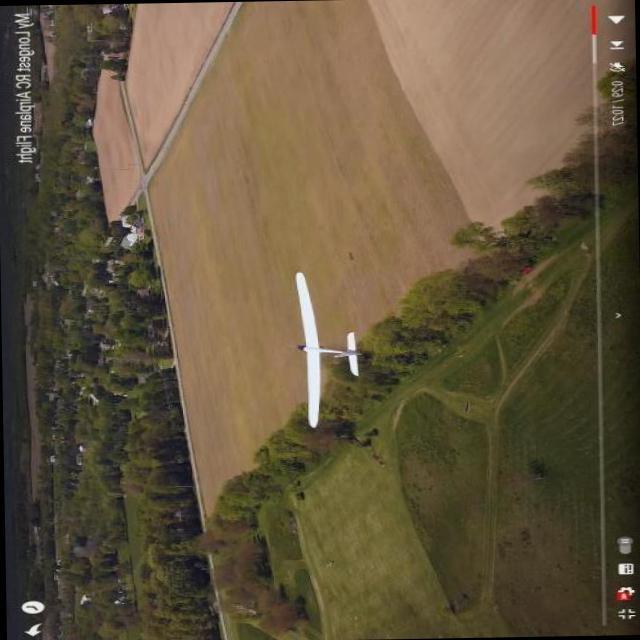UAV: (267, 272, 383, 434)
